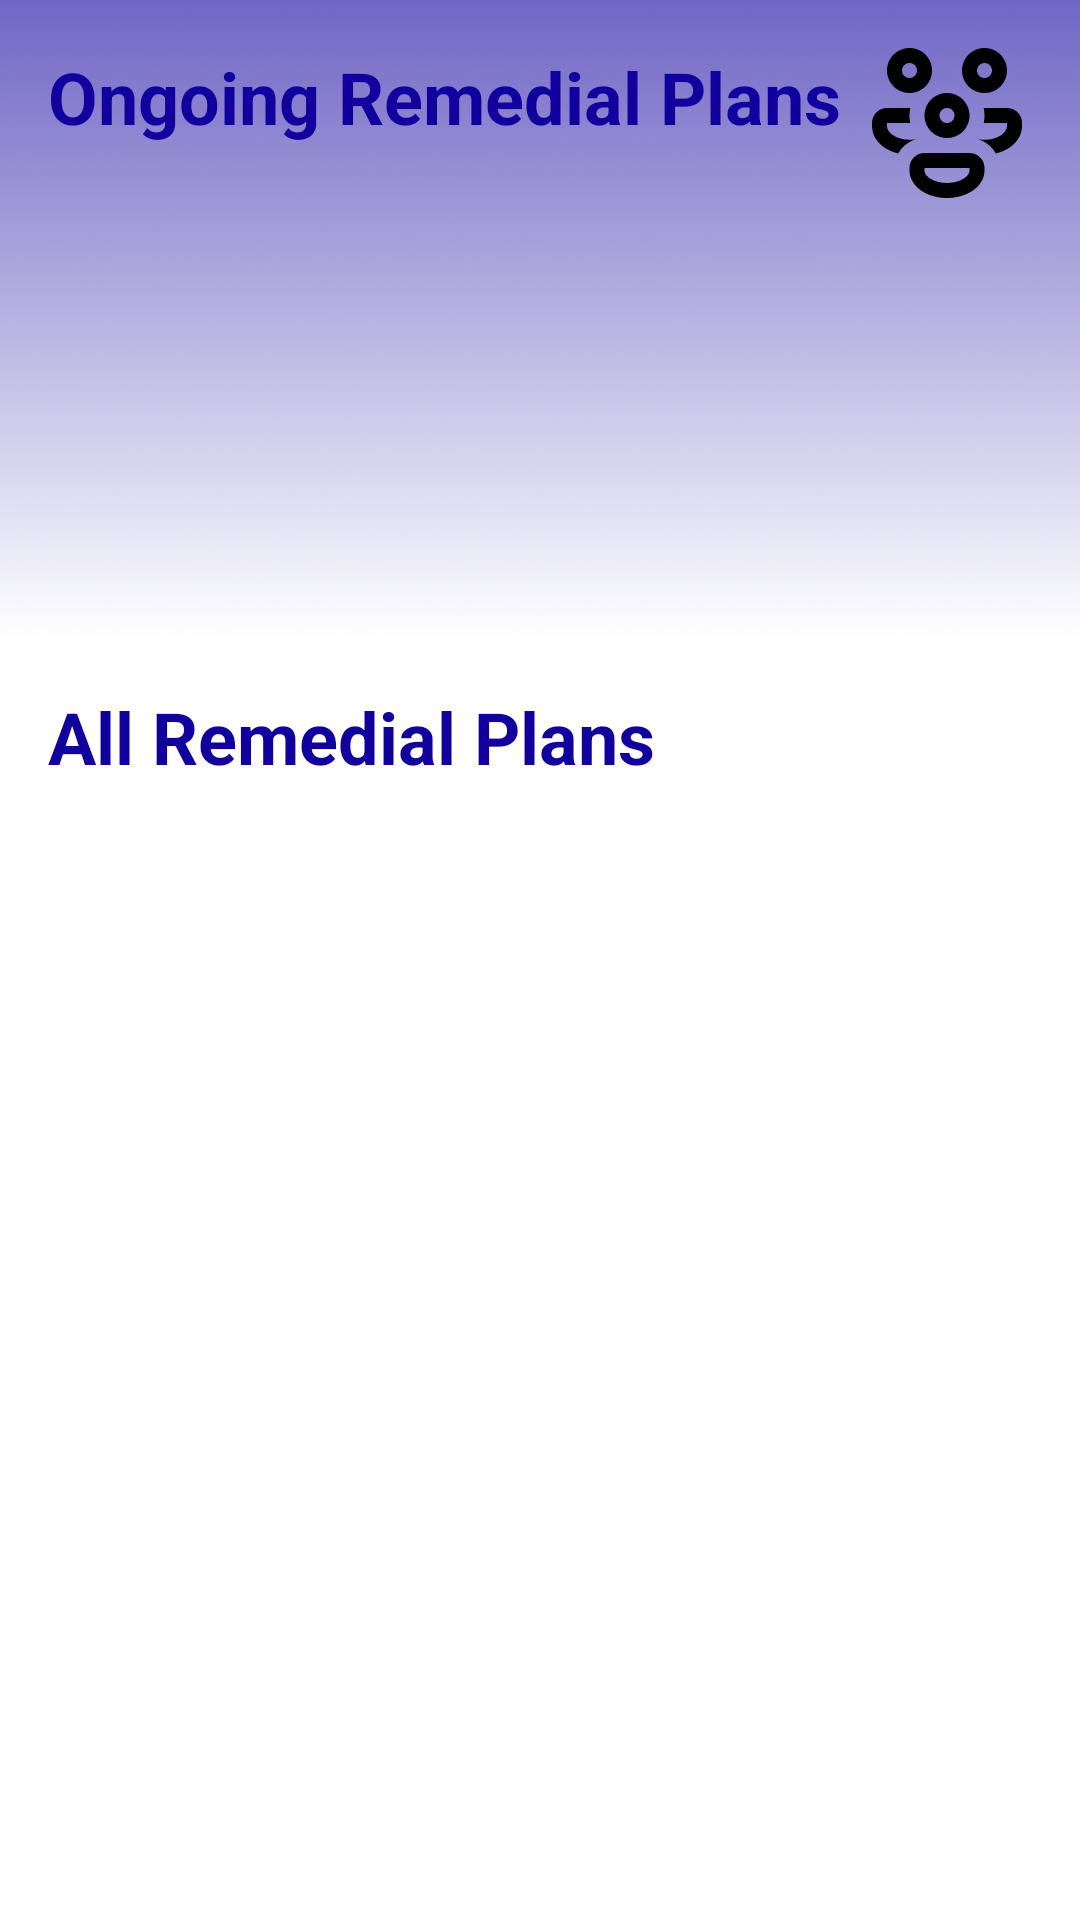

Icon click points for this 1080*1920 phone screenshot, format (x=x, y=y):
community: (x=946, y=123)
